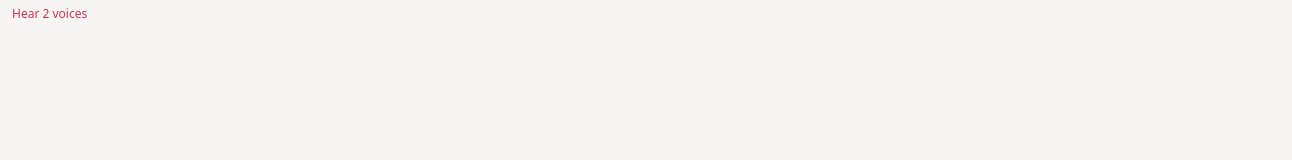
Test: PresetVoiceAuditionList › expands to the voice list and auditions on click
Later steps or results of the test are not shown.
Click the button "Hear 2 voices" at coordinates (50, 14), box [12,6,87,22]
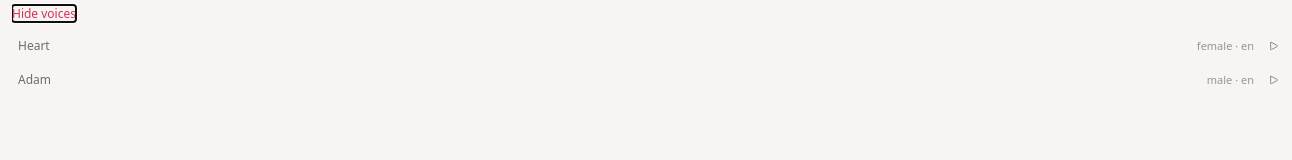
Now the button named "Hear Adam preview" is shown, box [1262,68,1286,92]
